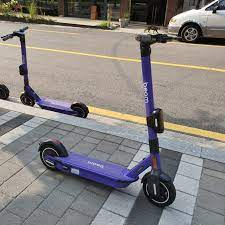kick_board: (37, 34, 177, 207), (3, 26, 88, 117)
kick_body: (39, 99, 72, 111)
kick_handler: (135, 35, 180, 54), (4, 26, 29, 41)
kick_neck: (141, 59, 165, 166), (20, 43, 30, 88)
kick_wheel: (141, 170, 175, 207), (40, 139, 65, 170), (20, 92, 35, 107), (73, 103, 87, 116)
